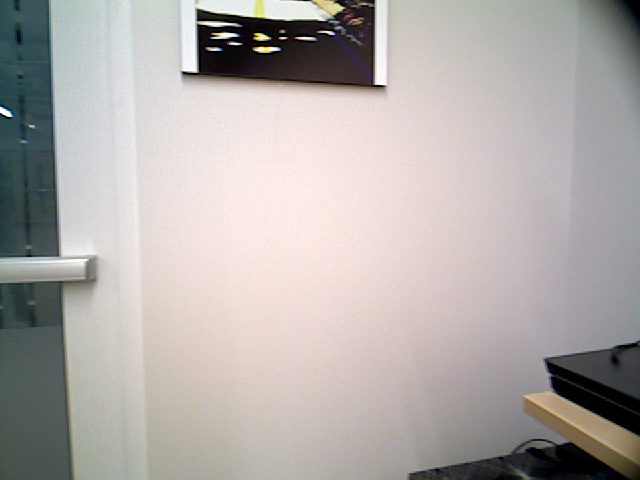painting3: (179, 1, 387, 86)
